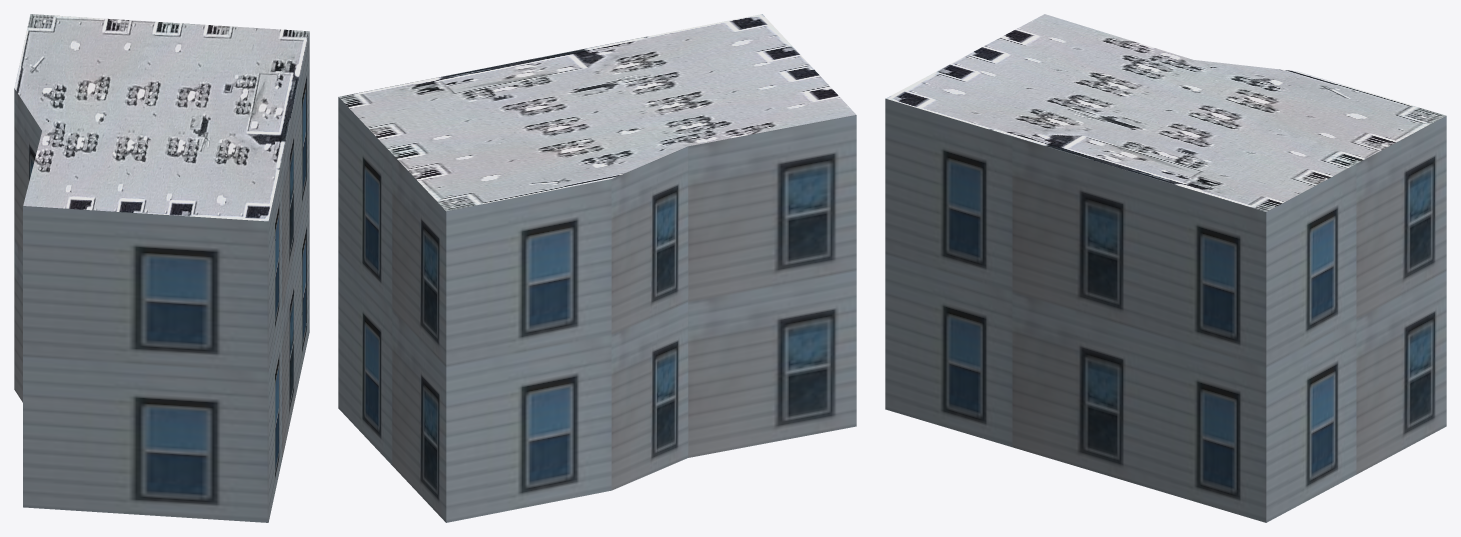
File: ResTex__4817.fbx
3 renders of one model, left to right at view 1: azimuth 30°, elevation 25°; view 2: azimuth 150°, elevation 25°; view 3: azimuth 270°, elevation 25°, orthographic. The views are drawn at different scales.
Visible parts, largest first — view 1: CityEngineMaterial_18_m, CityEngineMaterial_8_m; view 2: CityEngineMaterial_18_m, CityEngineMaterial_8_m; view 3: CityEngineMaterial_18_m, CityEngineMaterial_8_m.
Boxes of the visible parts, box(x1,y1,x2,y2) form: CityEngineMaterial_18_m: box(14, 31, 309, 522); CityEngineMaterial_8_m: box(14, 14, 309, 221); CityEngineMaterial_18_m: box(338, 97, 856, 522); CityEngineMaterial_8_m: box(338, 14, 856, 211); CityEngineMaterial_18_m: box(885, 98, 1446, 522); CityEngineMaterial_8_m: box(886, 14, 1445, 211).
Size of the model in its own units: 8.2 by 6 by 9.81.
2 materials, 2 textured.
